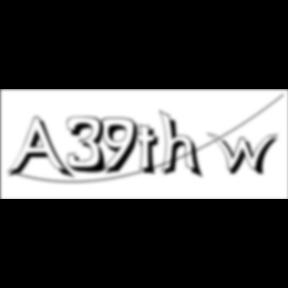3: (67, 116, 113, 176)
9: (100, 117, 145, 177)
A: (8, 116, 76, 182)
h: (160, 108, 206, 182)
t: (136, 124, 166, 179)
w: (207, 132, 285, 178)
